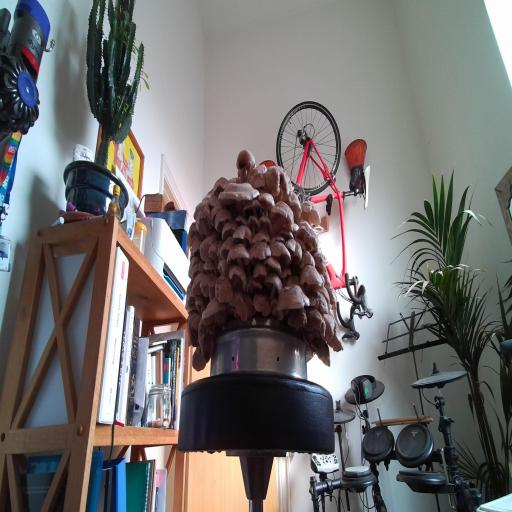Shiitake Mushroom: (222, 282, 265, 327), (287, 215, 329, 261), (261, 156, 296, 206), (226, 141, 263, 186), (276, 184, 309, 228), (303, 331, 341, 369), (262, 233, 300, 270), (218, 182, 261, 211), (279, 231, 310, 268), (206, 201, 238, 236), (259, 265, 288, 303), (302, 287, 337, 317), (226, 219, 260, 249), (195, 317, 217, 363), (275, 283, 311, 311), (302, 304, 330, 340), (268, 198, 295, 235), (262, 294, 292, 326), (214, 229, 243, 262), (195, 226, 219, 265), (254, 183, 280, 218), (185, 345, 212, 378), (246, 290, 277, 318), (324, 320, 346, 359), (223, 241, 253, 268), (215, 216, 244, 242), (201, 297, 227, 326), (299, 262, 324, 292), (194, 203, 213, 239), (259, 253, 287, 277), (206, 173, 234, 197), (190, 286, 213, 315), (198, 269, 218, 300), (243, 210, 265, 238), (185, 309, 201, 347), (300, 199, 322, 226), (243, 274, 264, 302), (311, 246, 329, 277), (247, 162, 267, 189), (184, 221, 204, 248), (275, 262, 296, 287), (205, 198, 226, 223), (315, 281, 336, 306), (228, 264, 247, 291), (215, 275, 233, 303), (287, 307, 308, 331), (274, 225, 298, 246), (190, 268, 206, 299), (184, 253, 202, 279), (250, 241, 272, 260), (242, 197, 263, 215), (325, 283, 340, 308), (299, 248, 316, 269), (323, 313, 335, 342), (186, 262, 205, 280), (253, 260, 268, 281), (320, 268, 334, 290), (185, 287, 197, 311), (209, 240, 223, 260), (258, 216, 273, 234), (191, 238, 203, 259), (193, 198, 211, 212), (249, 230, 268, 243), (200, 259, 217, 273), (217, 258, 229, 277), (207, 194, 223, 208), (268, 234, 286, 244), (234, 213, 248, 225), (286, 275, 301, 286), (263, 230, 272, 245)
